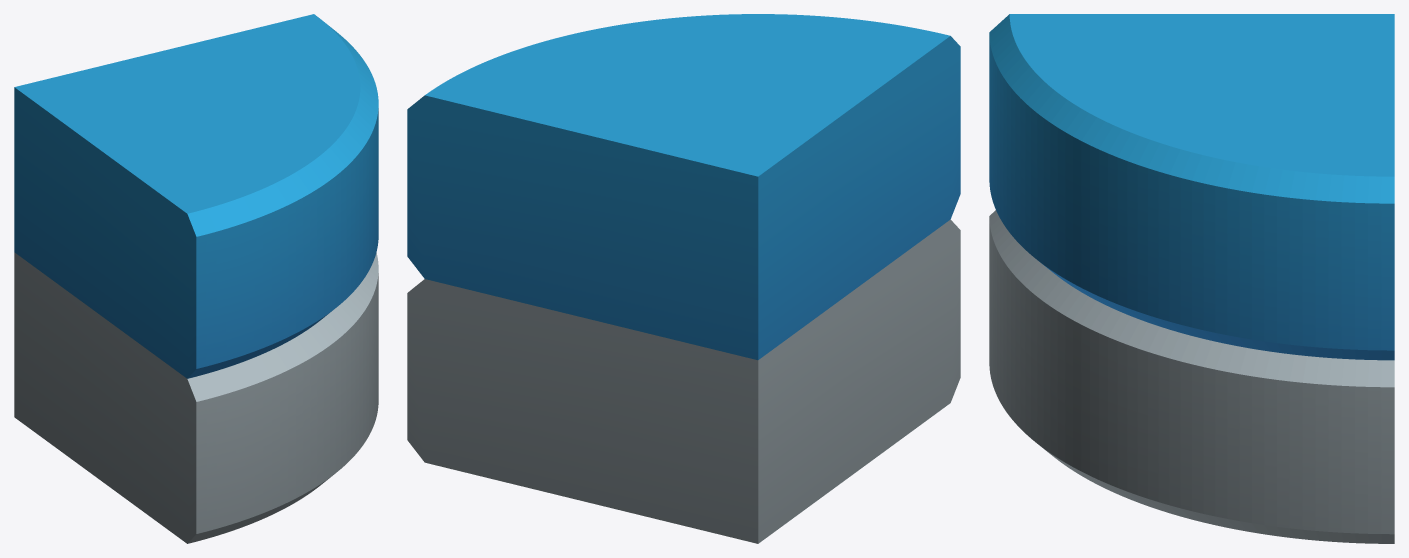
The model's file is quarter_circle_blue.glb.
The picture shows the model from 3 angles, left to right: view 1: azimuth 30°, elevation 25°; view 2: azimuth 150°, elevation 25°; view 3: azimuth 270°, elevation 25°; orthographic projection. The views are drawn at different scales.
Visible parts, largest first — view 1: kaykit_platform_quarter_circle_blue_visual; view 2: kaykit_platform_quarter_circle_blue_visual; view 3: kaykit_platform_quarter_circle_blue_visual.
Boxes of the visible parts, left/top/right/bottom form: kaykit_platform_quarter_circle_blue_visual: left=14, top=14, right=378, bottom=543; kaykit_platform_quarter_circle_blue_visual: left=407, top=14, right=960, bottom=543; kaykit_platform_quarter_circle_blue_visual: left=989, top=14, right=1394, bottom=543.
Size of what is drawn, in the model's own units: 1 by 1 by 1.
1 material, 1 textured.
